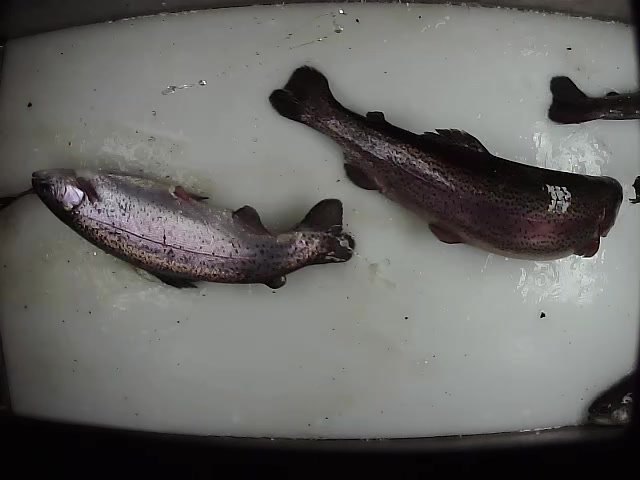fish: (265, 64, 626, 263), (31, 165, 360, 292)
